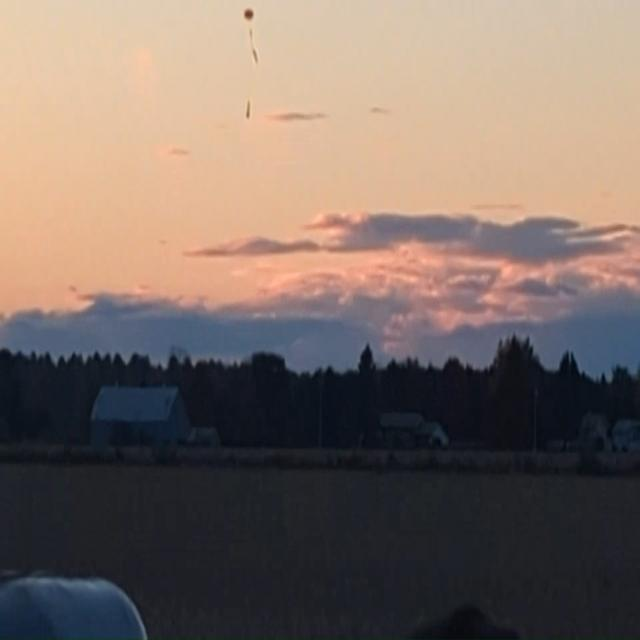Rocket: (245, 100, 251, 120)
